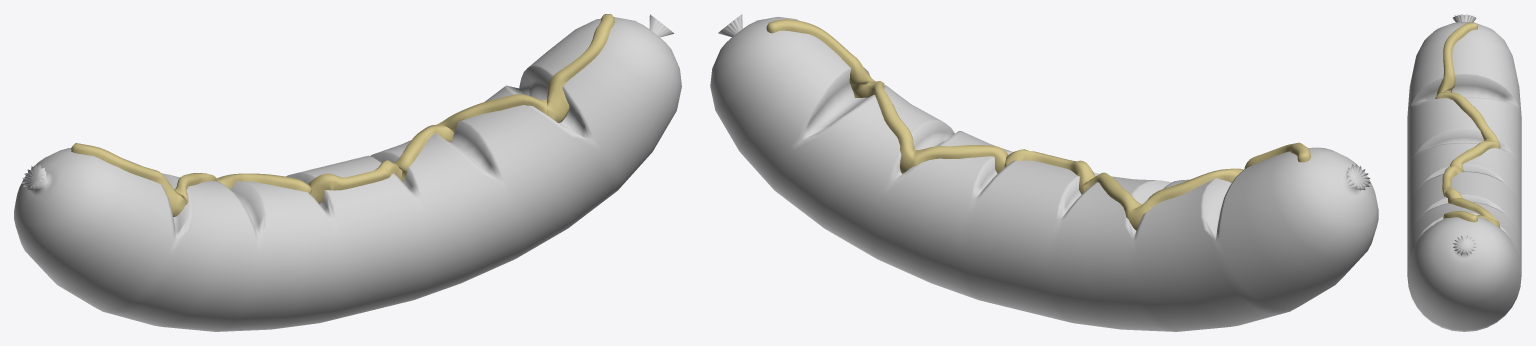
File: makkara2.fbx
3 views of the same model, side by side, from view 1: azimuth 30°, elevation 25°; view 2: azimuth 150°, elevation 25°; view 3: azimuth 270°, elevation 25° (orthographic). The views are drawn at different scales.
Parts seen in each view (by area): view 1: Makkara, Sinappi; view 2: Makkara, Sinappi; view 3: Makkara, Sinappi.
Part boxes in pixels (bbox=[...]): Makkara: bbox=[14, 14, 681, 331]; Sinappi: bbox=[71, 14, 614, 216]; Makkara: bbox=[710, 14, 1378, 331]; Sinappi: bbox=[766, 19, 1310, 230]; Makkara: bbox=[1407, 14, 1521, 331]; Sinappi: bbox=[1435, 22, 1500, 227].
Bounding box in the file's own units: 8.63 × 2.84 × 1.77.
